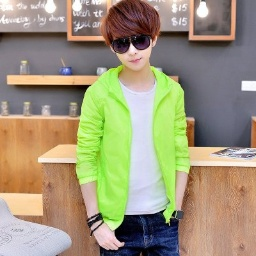face: (97, 1, 163, 74)
